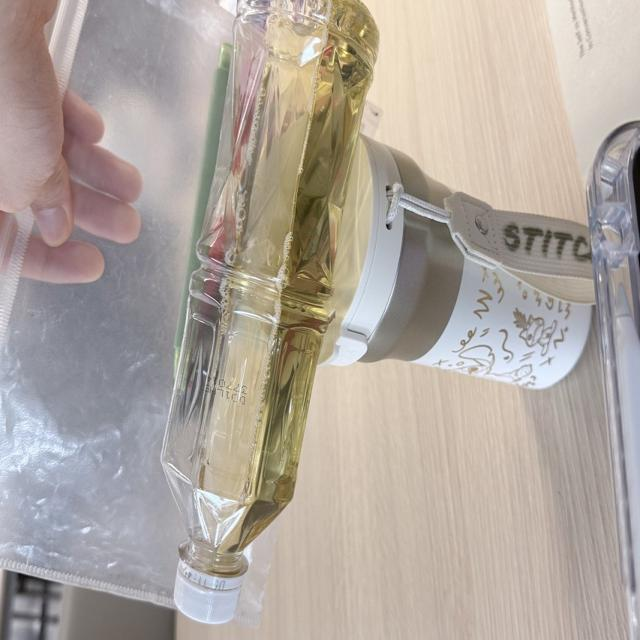medium: (162, 0, 378, 621)
